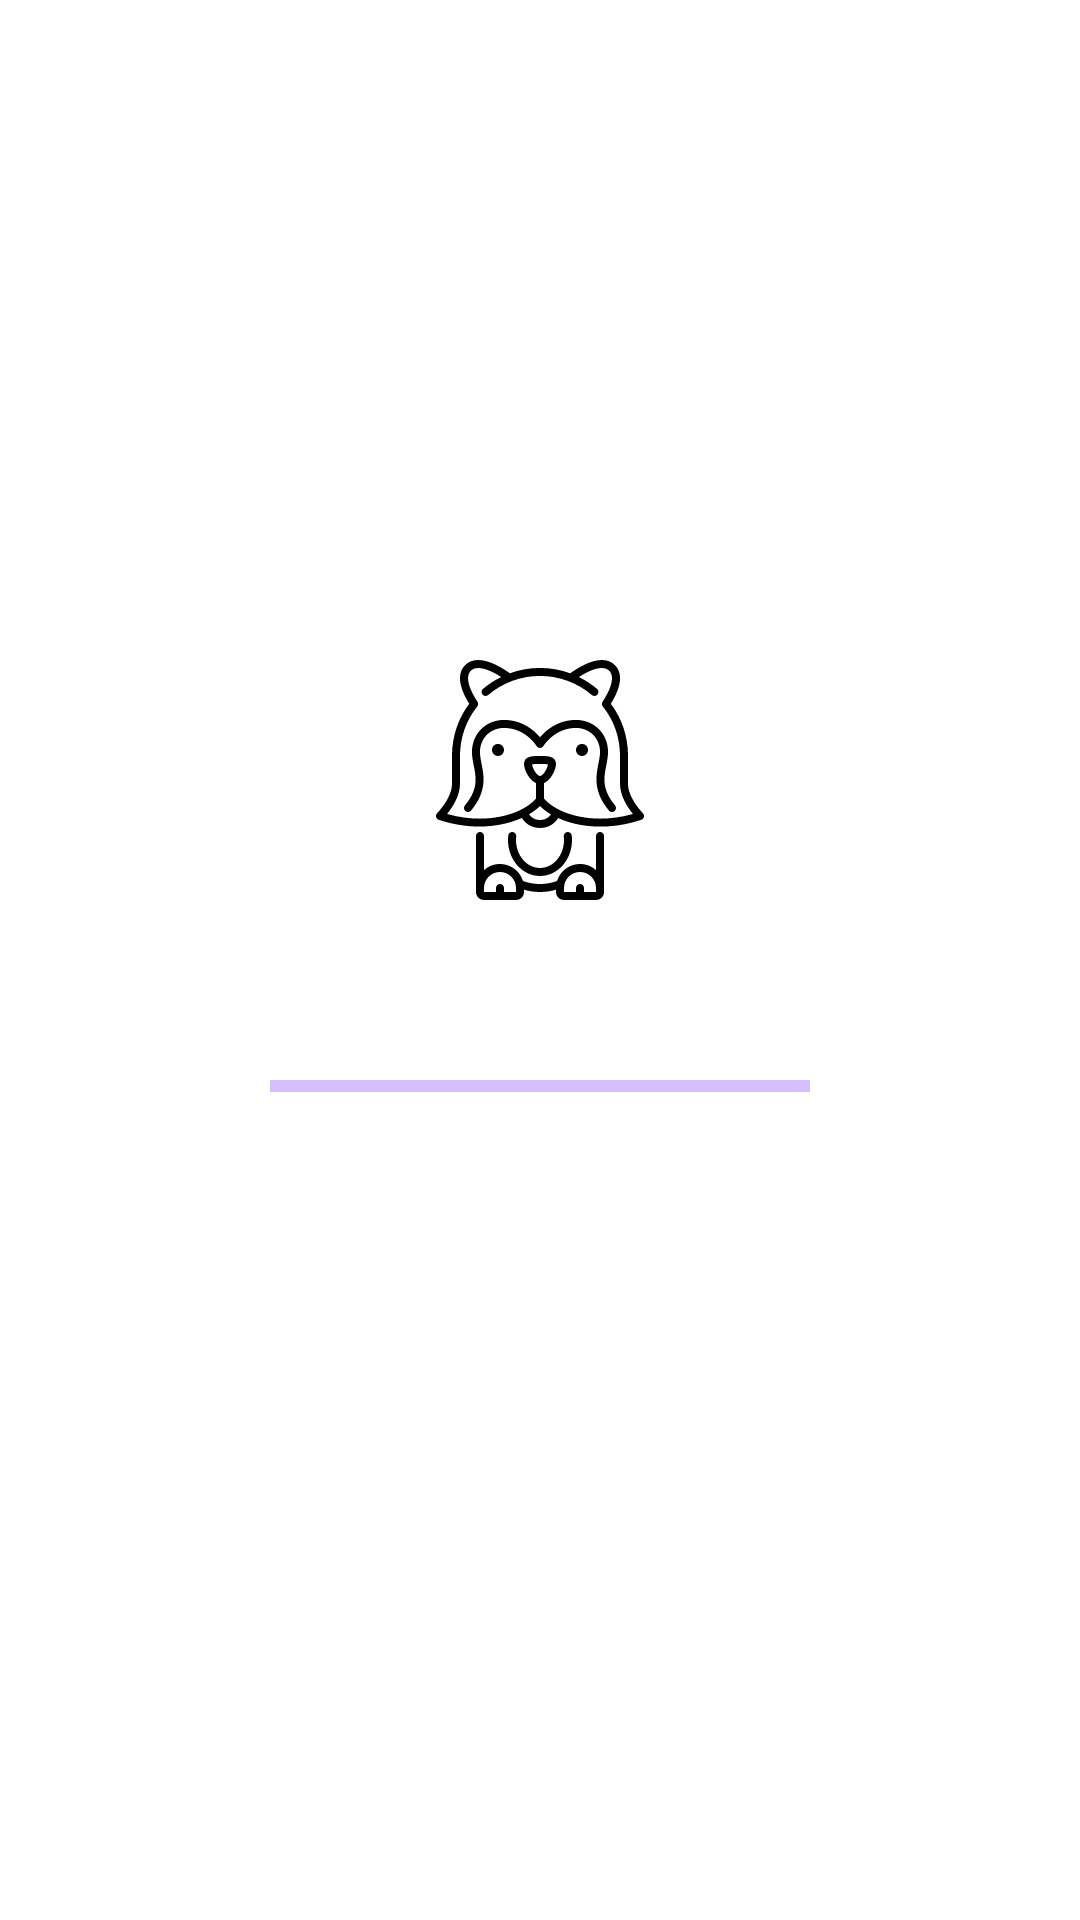

Screen size 1080x1920. Icon name, then its center in pixels as [x,y]:
animal: [540,780]
